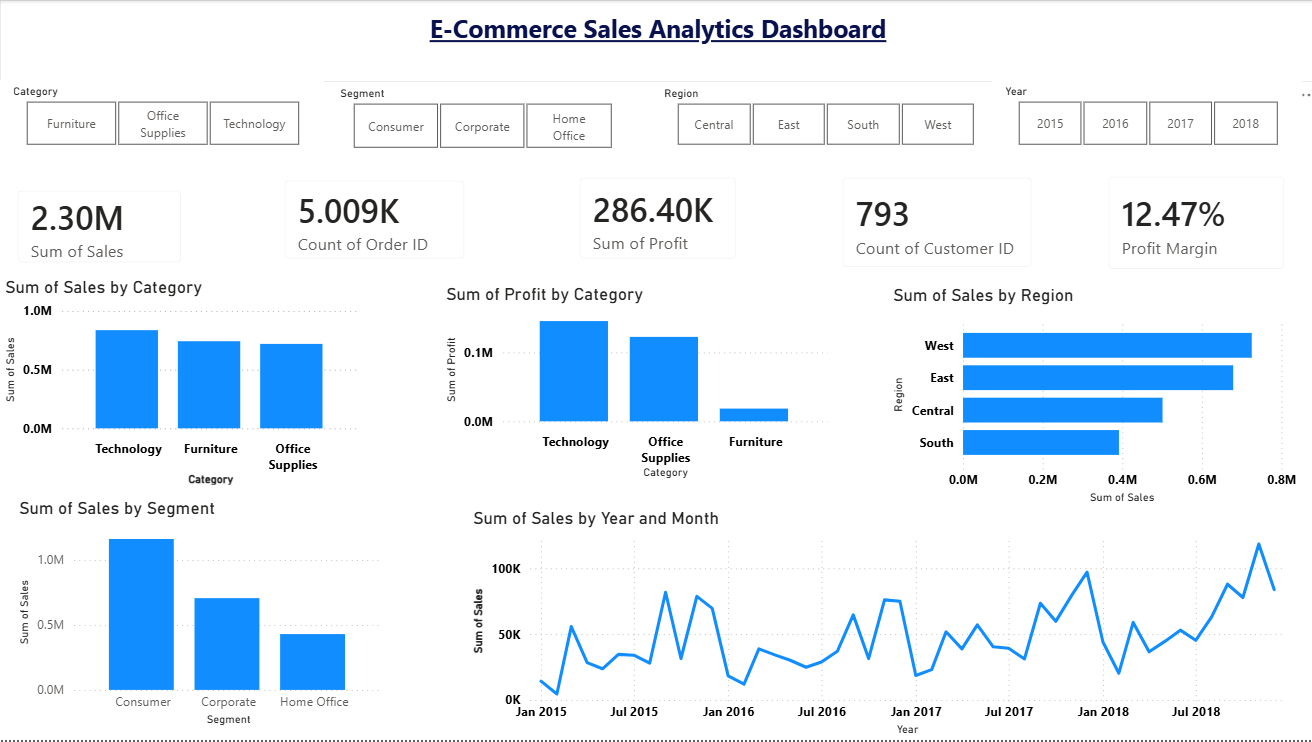

This screenshot's page, from the dashboard's own definition file:
{"tool":"powerbi","page":{"name":"Page 1","canvas":[1280,720],"ordinal":0},"visuals":[{"type":"cardVisual","fields":{"Data":["Sum(Orders.Sales)"]},"box":[0,168.3,193.6,104.1],"z":0},{"type":"cardVisual","fields":{"Data":["Sum(Orders.Profit)"]},"box":[546.6,155.6,186.7,113.8],"z":1000},{"type":"cardVisual","fields":{"Data":["Count(Orders.Order ID)"]},"box":[259.7,158.5,209.1,110.9],"z":2000},{"type":"cardVisual","fields":{"Data":["Count(Orders.Customer ID)"]},"box":[802.4,155.6,218.8,121.6],"z":3000},{"type":"clusteredColumnChart","fields":{"Category":["Orders.Category"],"Y":["Sum(Orders.Sales)"]},"box":[0,269.4,354,207.2],"z":4000},{"type":"clusteredColumnChart","fields":{"Category":["Orders.Category"],"Y":["Sum(Orders.Profit)"]},"box":[428.9,276.2,381.3,193.6],"z":5000},{"type":"clusteredBarChart","fields":{"Category":["Orders.Region"],"Y":["Sum(Orders.Sales)"]},"box":[863.7,277.2,402.7,216.9],"z":6000},{"type":"lineChart","fields":{"Y":["Sum(Orders.Sales)"],"Category":["Orders.Order Date.Variation.Date Hierarchy.Year","Orders.Order Date.Variation.Date Hierarchy.Month"]},"box":[455.2,494.1,813.1,225.7],"z":7000},{"type":"clusteredColumnChart","fields":{"Category":["Orders.Segment"],"Y":["Sum(Orders.Sales)"]},"box":[13.6,484.4,363.8,225.7],"z":8000},{"type":"cardVisual","fields":{"Data":["Orders.Profit Margin"]},"box":[1061.2,154.7,205.2,124.5],"z":9000},{"type":"textbox","box":[0,0,1280,80],"z":10000},{"type":"slicer","fields":{"Values":["Orders.Order Date.Variation.Date Hierarchy.Year"]},"box":[964.9,77.8,301.5,70],"z":11000},{"type":"slicer","fields":{"Values":["Orders.Category"]},"box":[0,77.8,315.1,64.2],"z":12000},{"type":"slicer","fields":{"Values":["Orders.Region"]},"box":[633.2,79.8,338.5,68.1],"z":13000},{"type":"slicer","fields":{"Values":["Orders.Segment"]},"box":[318.1,79.8,300.5,71],"z":14000}]}

Visuals, with their boxes in screenshot pixels (x1, y1, x2, y2), scaled from the page's 1280x720 canvas onto the 1312x742 screenshot:
cardVisual - Sum(Orders.Sales): select_region(0, 173, 198, 281)
cardVisual - Sum(Orders.Profit): select_region(560, 160, 752, 278)
cardVisual - Count(Orders.Order ID): select_region(266, 163, 481, 278)
cardVisual - Count(Orders.Customer ID): select_region(822, 160, 1047, 286)
clusteredColumnChart - Orders.Category x Sum(Orders.Sales): select_region(0, 278, 363, 491)
clusteredColumnChart - Orders.Category x Sum(Orders.Profit): select_region(440, 285, 830, 484)
clusteredBarChart - Orders.Region x Sum(Orders.Sales): select_region(885, 286, 1298, 509)
lineChart - Sum(Orders.Sales) x Orders.Order Date.Variation.Date Hierarchy.Year: select_region(467, 509, 1300, 741)
clusteredColumnChart - Orders.Segment x Sum(Orders.Sales): select_region(14, 499, 387, 732)
cardVisual - Orders.Profit Margin: select_region(1088, 159, 1298, 288)
textbox: select_region(0, 0, 1311, 82)
slicer - Orders.Order Date.Variation.Date Hierarchy.Year: select_region(989, 80, 1298, 152)
slicer - Orders.Category: select_region(0, 80, 323, 146)
slicer - Orders.Region: select_region(649, 82, 996, 152)
slicer - Orders.Segment: select_region(326, 82, 634, 155)
